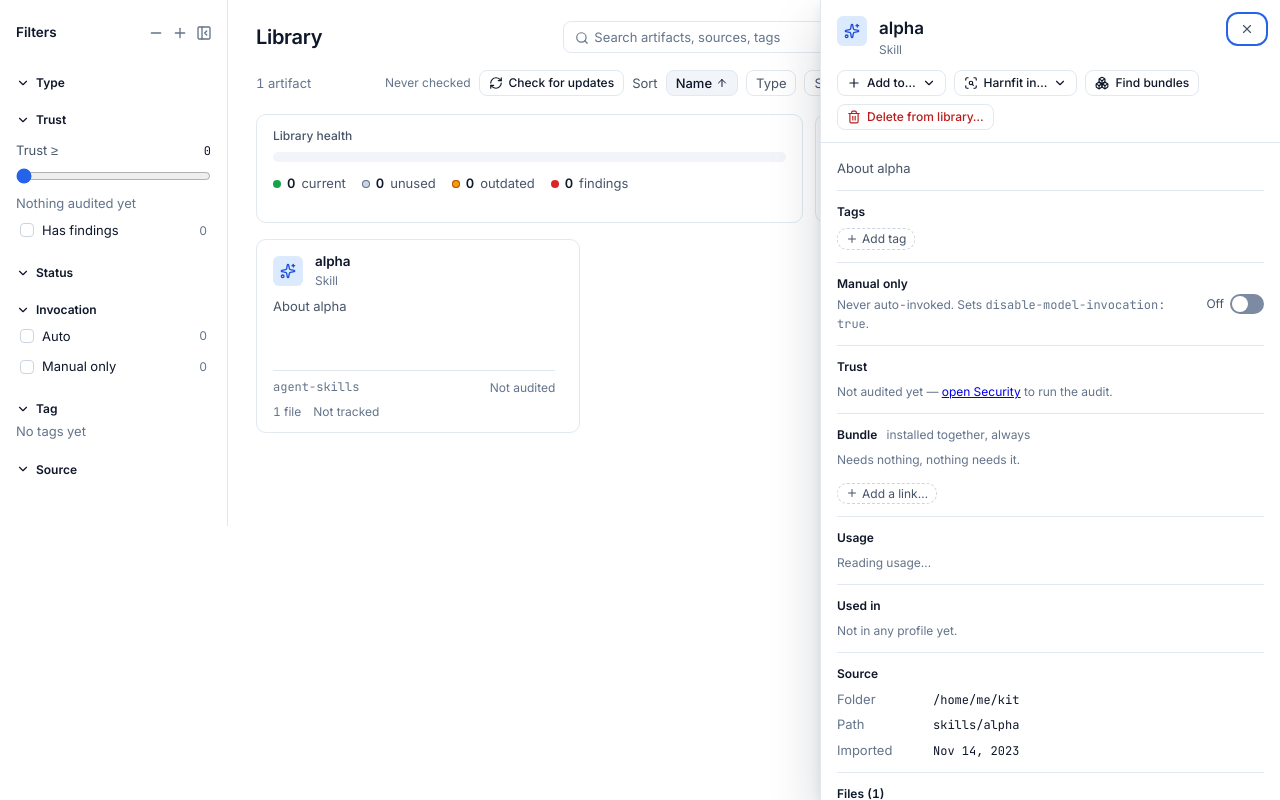
Test: tags in the detail panel › moves with the arrow keys, picks with Enter and closes with Esc
Click the button "Add tag". click: (876, 239)
box: [837,228,915,250]
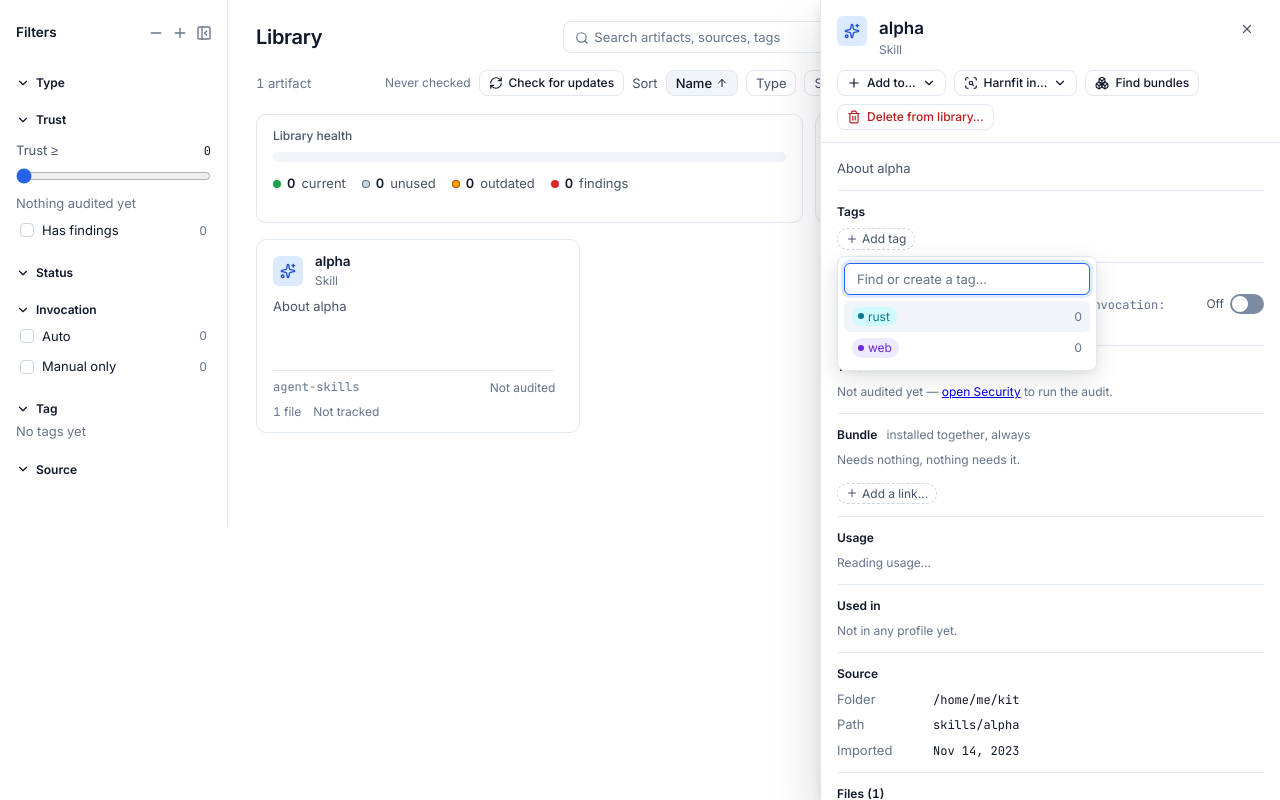
Press Arrowdown
Press Arrowup Arrowup
Result: the option "web 0" is selected at [844,332,1090,364]
Press Enter
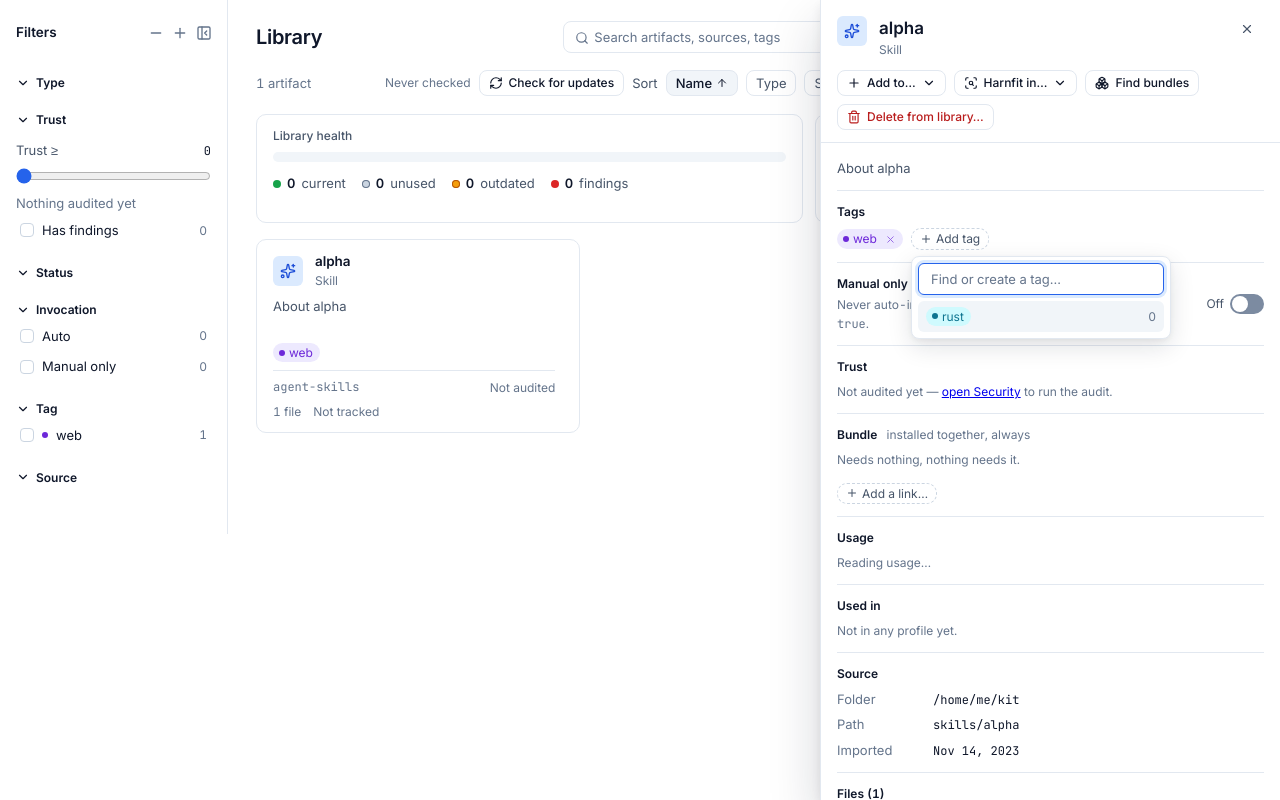
Press Escape
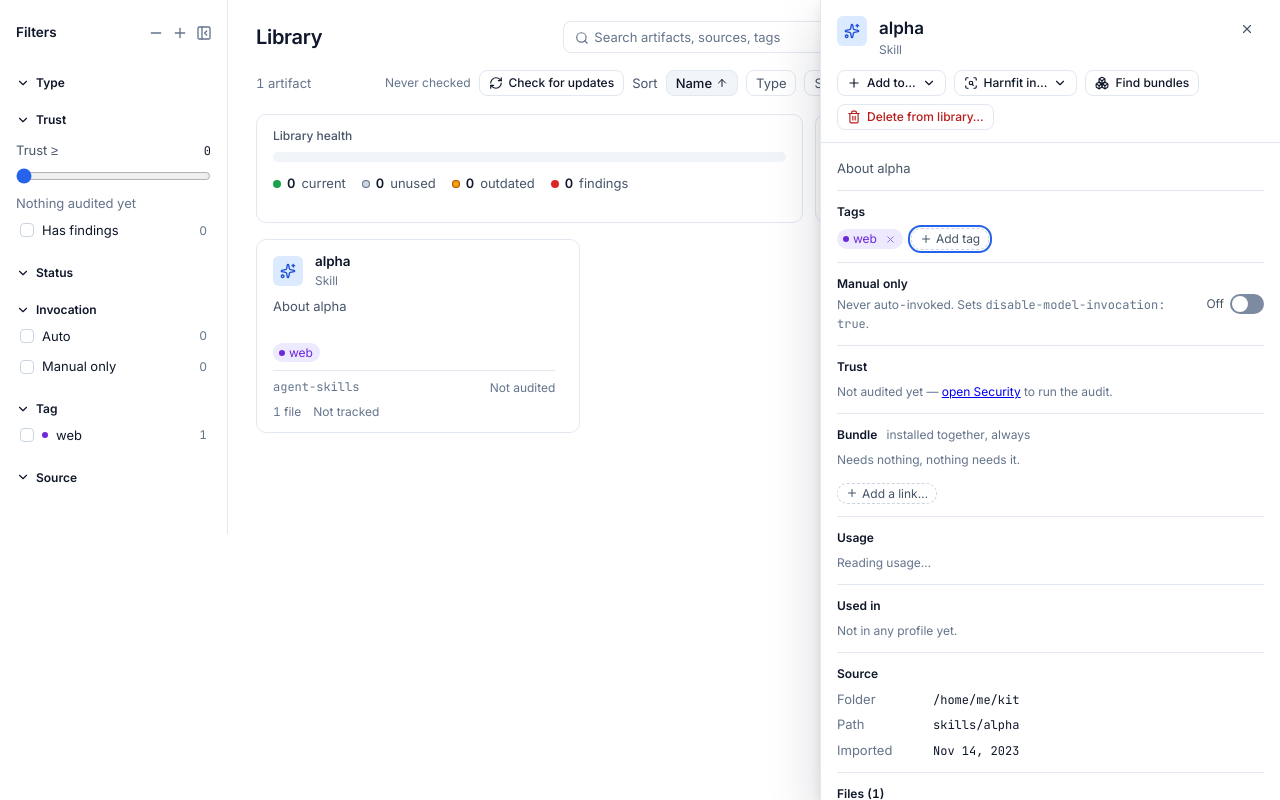
Expected: the dialog named "alpha details" is shown, [820,0,1279,799]
Result: the list is gone
